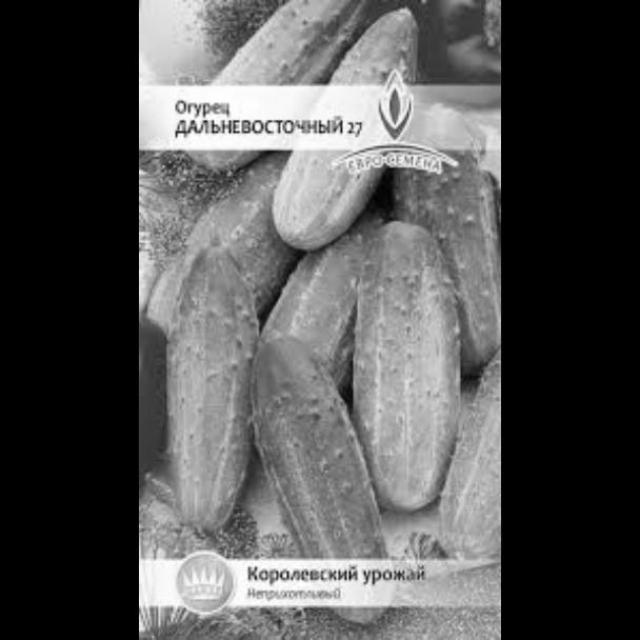cucumber: (230, 310, 399, 597), (340, 208, 471, 537), (281, 0, 416, 276), (138, 126, 296, 352), (141, 226, 259, 526), (173, 0, 347, 168), (395, 97, 500, 366), (439, 294, 500, 582)
